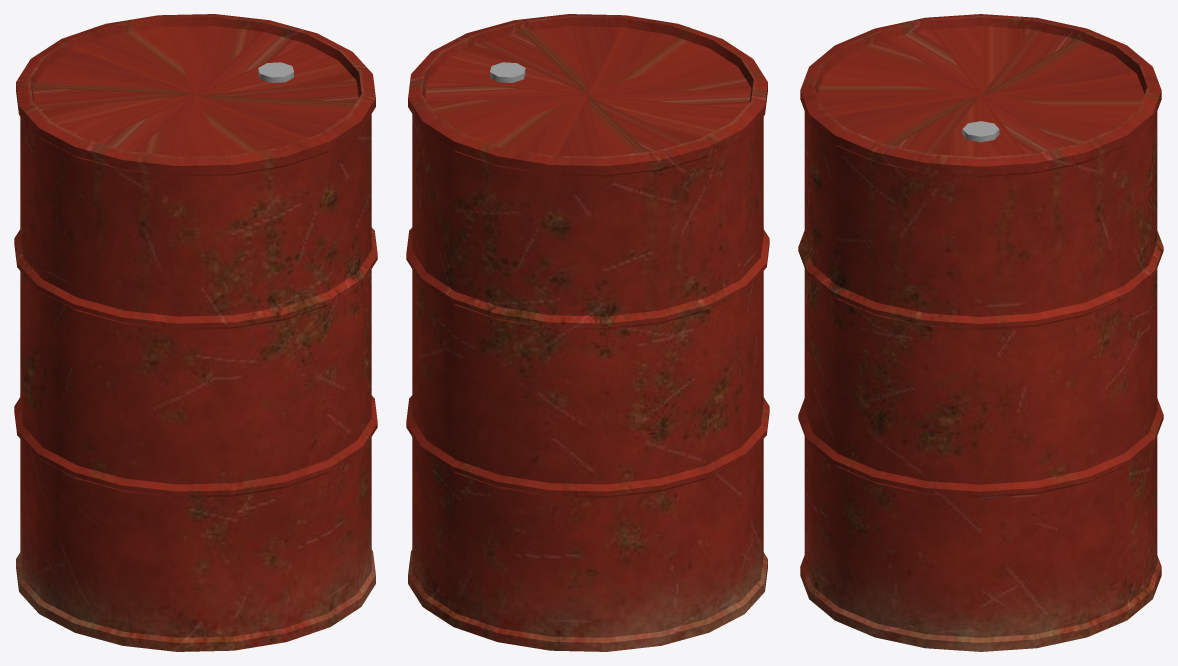
Rendered from drum_red.glb.
3 views of the same model, side by side, from view 1: azimuth 30°, elevation 25°; view 2: azimuth 150°, elevation 25°; view 3: azimuth 270°, elevation 25° (orthographic).
Visible parts, largest first — view 1: model; view 2: model; view 3: model.
Boxes of the visible parts, x1=… form: model: x1=14, y1=14, x2=377, y2=651; model: x1=406, y1=14, x2=769, y2=651; model: x1=798, y1=14, x2=1163, y2=651.
Bounding box in the file's own units: 0.592 × 0.88 × 0.592.
2 materials, 1 textured.
